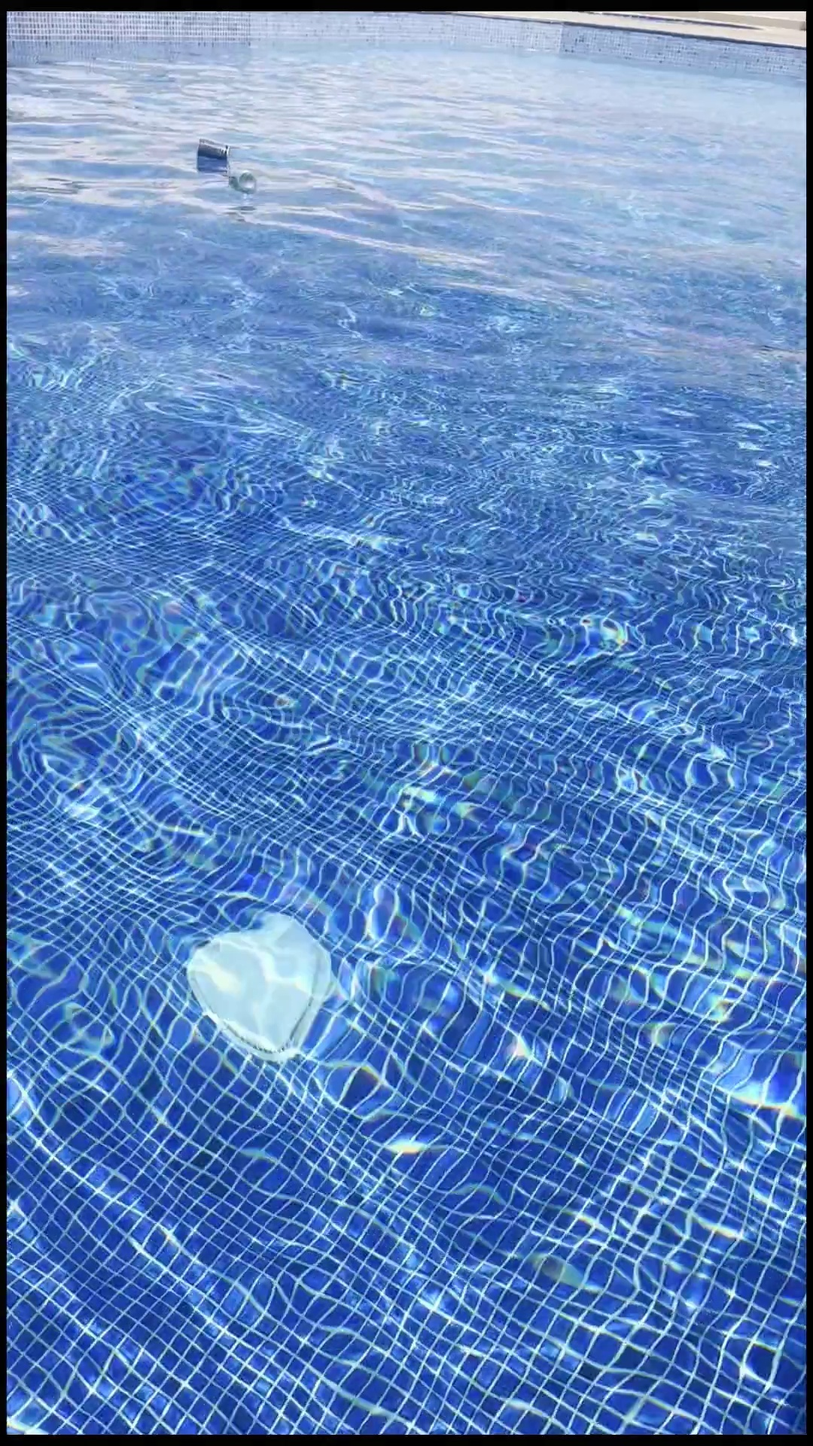debris: (188, 121, 230, 181), (230, 159, 257, 199)
